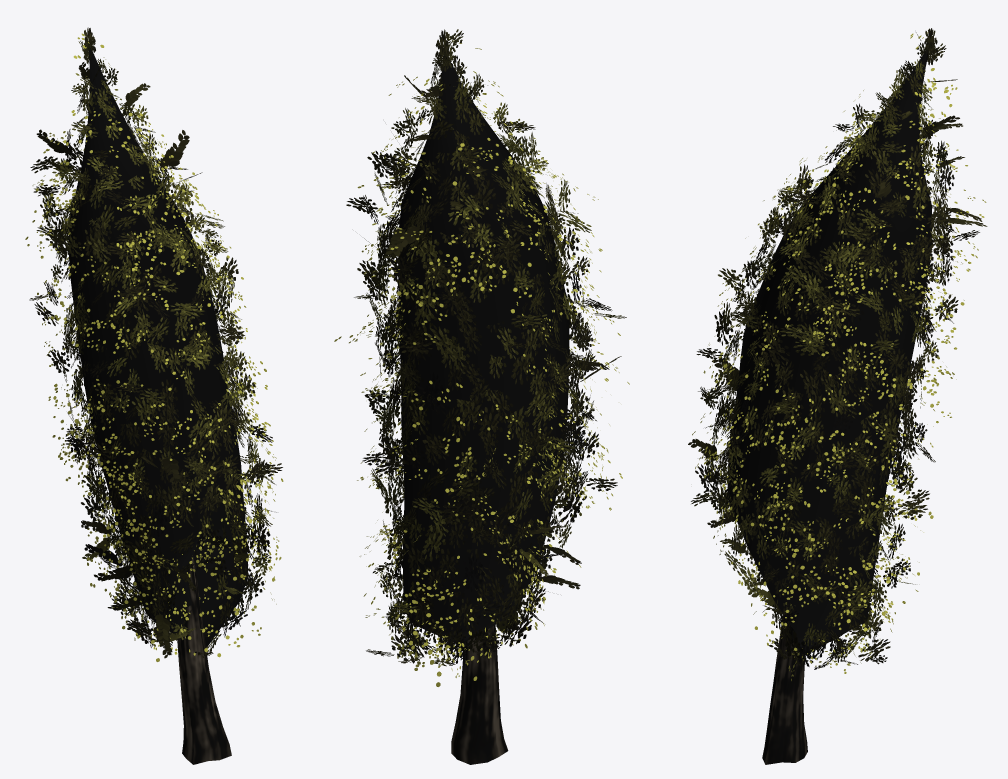
File: CreTree02.glb
3 views of the same model, side by side, from view 1: azimuth 30°, elevation 25°; view 2: azimuth 150°, elevation 25°; view 3: azimuth 270°, elevation 25° (orthographic). The views are drawn at different scales.
Parts seen in each view (by area): view 1: CreTree02_leaves; view 2: CreTree02_leaves; view 3: CreTree02_leaves.
Part boxes in pixels (<box>): CreTree02_leaves: <box>25,27,283,764</box>; CreTree02_leaves: <box>334,29,629,764</box>; CreTree02_leaves: <box>688,28,987,764</box>.
Size of the model in its own units: 3.42 by 10.65 by 4.33.
Materials: 3 (2 with a texture image).
